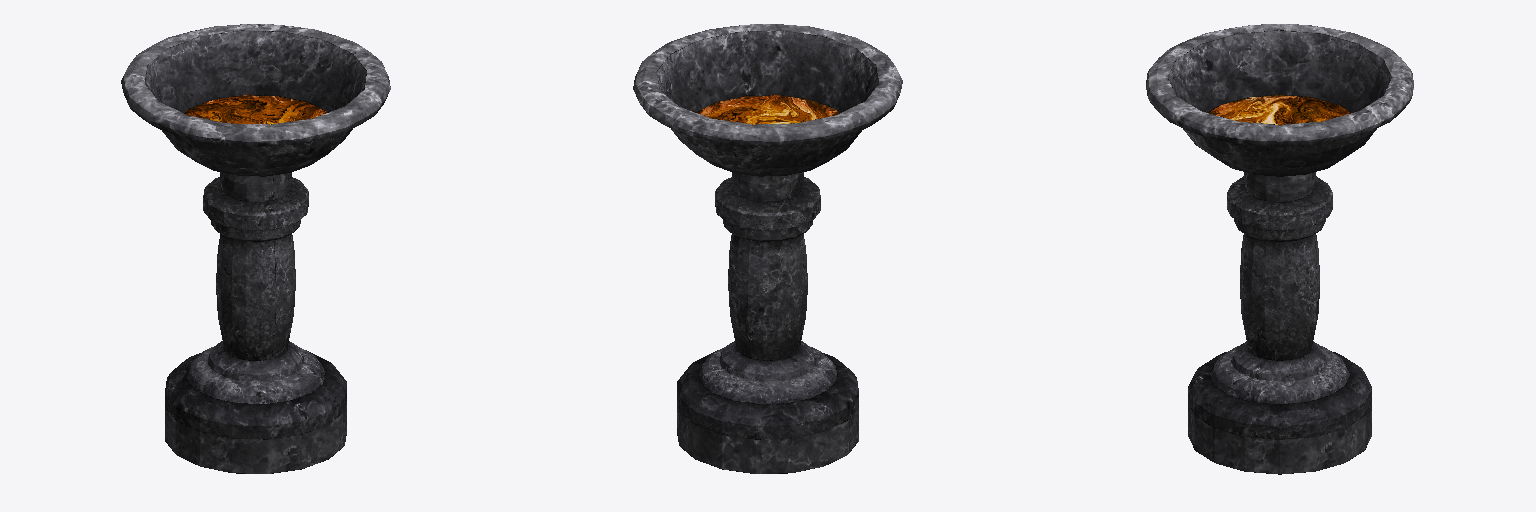
The picture shows the model from 3 angles: view 1: azimuth 30°, elevation 25°; view 2: azimuth 150°, elevation 25°; view 3: azimuth 270°, elevation 25°; orthographic projection.
Visible parts, largest first — view 1: Contest_001; view 2: Contest_001; view 3: Contest_001.
Boxes of the visible parts, x1=… form: Contest_001: x1=121, y1=24, x2=390, y2=473; Contest_001: x1=633, y1=24, x2=902, y2=473; Contest_001: x1=1146, y1=24, x2=1413, y2=474.
Size of the model in its own units: 149 by 221 by 149.
Materials: 1 (1 with a texture image).